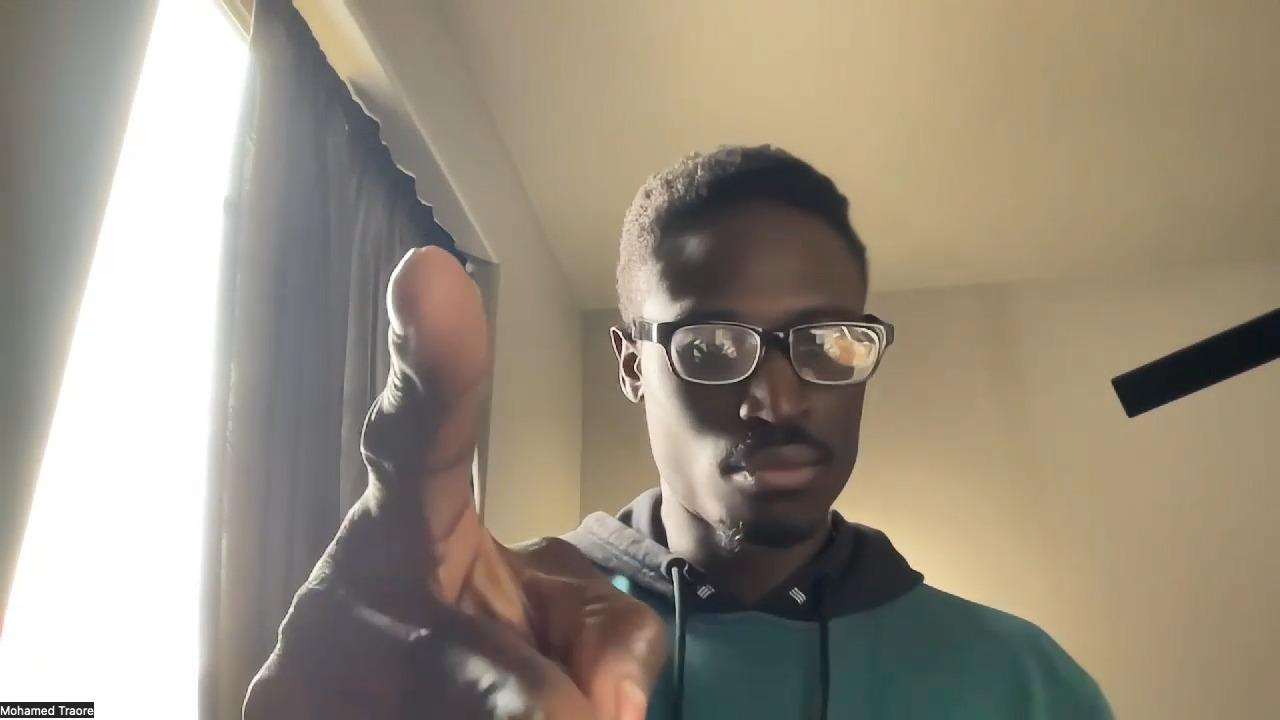Scissors: (245, 248, 669, 720)
